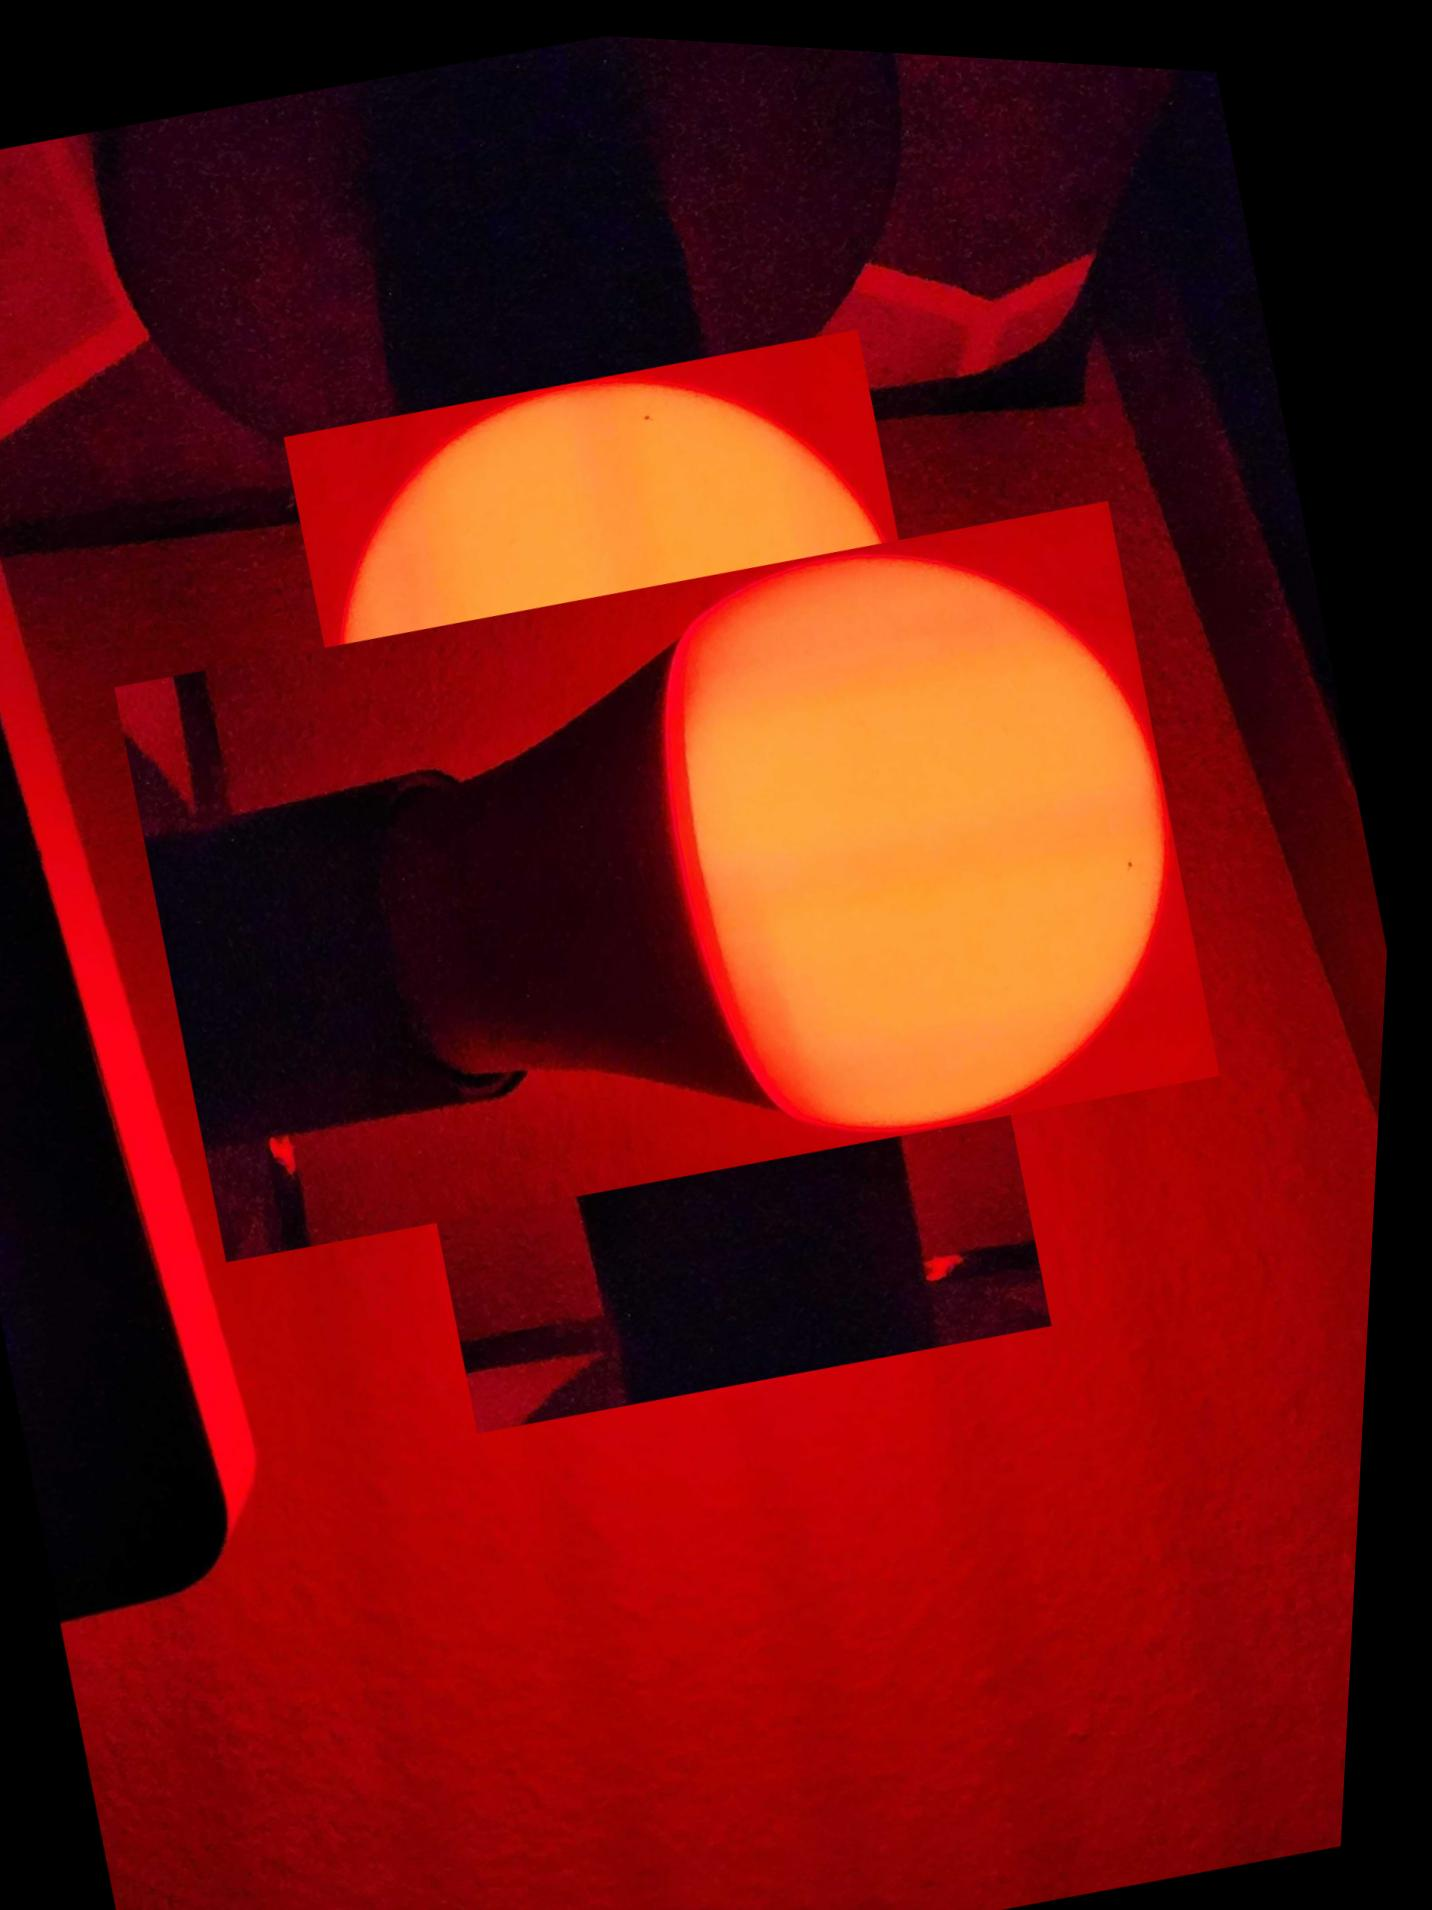TubeLight: (171, 365, 1179, 1378)
